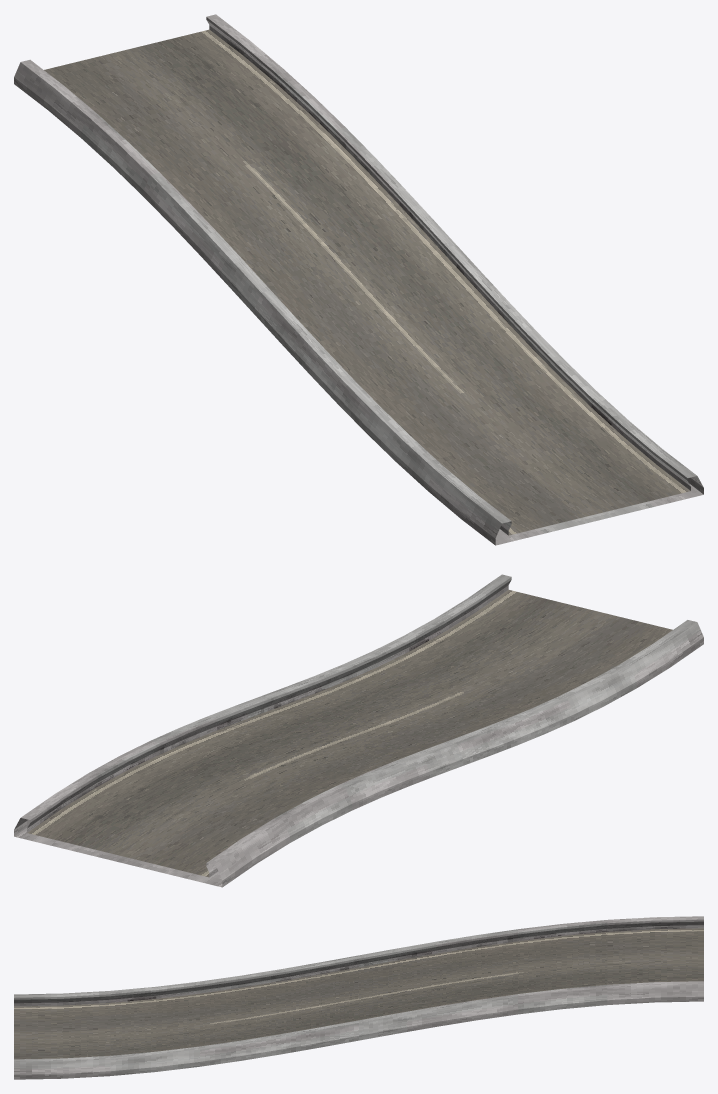
The model's file is straight4.glb.
3 views of the same model, one above another, from view 1: azimuth 30°, elevation 25°; view 2: azimuth 150°, elevation 25°; view 3: azimuth 270°, elevation 25° (orthographic). The views are drawn at different scales.
Visible parts, largest first — view 1: road-Straight-Flat-Flat-Up2-Center-Size4; view 2: road-Straight-Flat-Flat-Up2-Center-Size4; view 3: road-Straight-Flat-Flat-Up2-Center-Size4.
Part boxes in pixels (bbox=[...]): road-Straight-Flat-Flat-Up2-Center-Size4: bbox=[14, 14, 703, 545]; road-Straight-Flat-Flat-Up2-Center-Size4: bbox=[14, 574, 703, 887]; road-Straight-Flat-Flat-Up2-Center-Size4: bbox=[14, 916, 703, 1079].
Size of the model in its own units: 1 by 0.5938 by 4.
2 materials, 2 textured.
